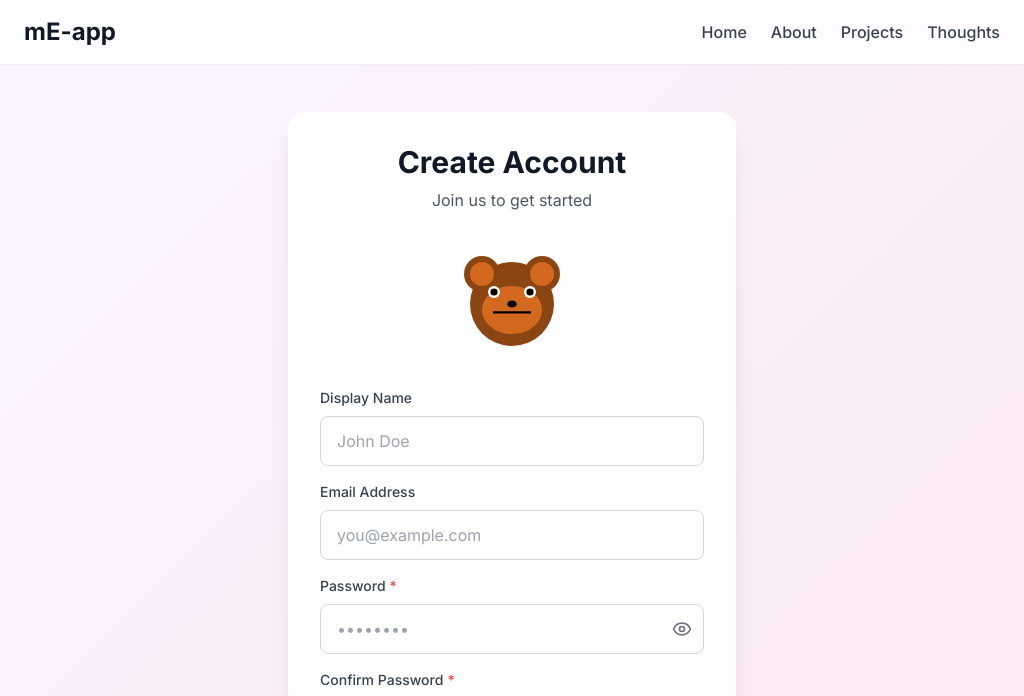
Test: Register Page › should validate email format
In the field labelled "Email Address": (512, 535) [320,510,704,560], type "invalid-email"
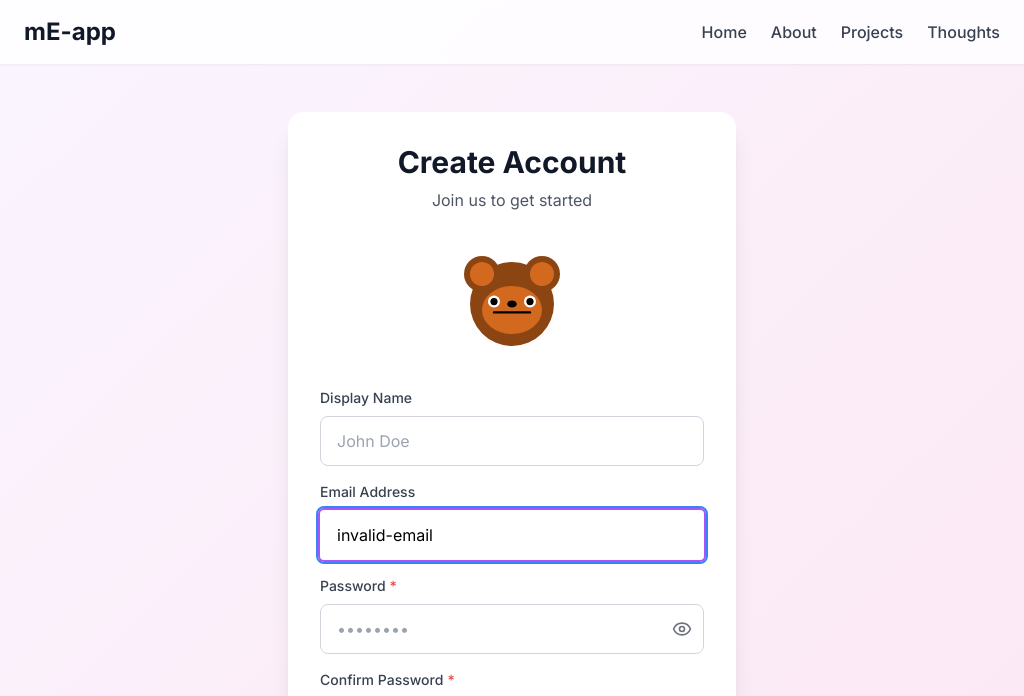
Press Tab
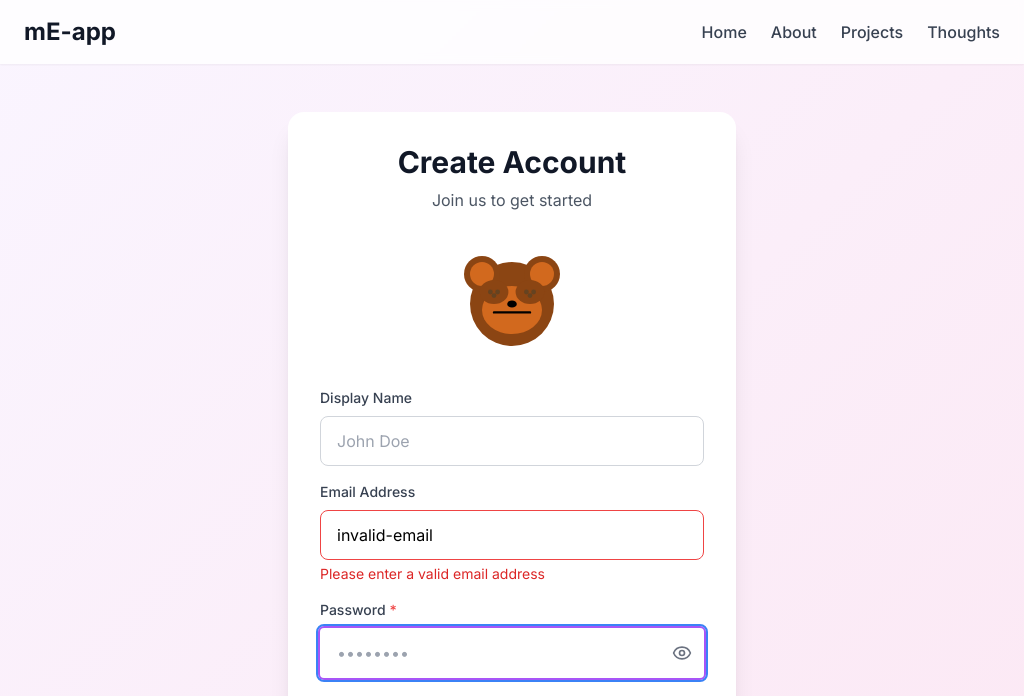
Expected: the text "Please enter a valid email address" is shown, [320,565,545,582]
